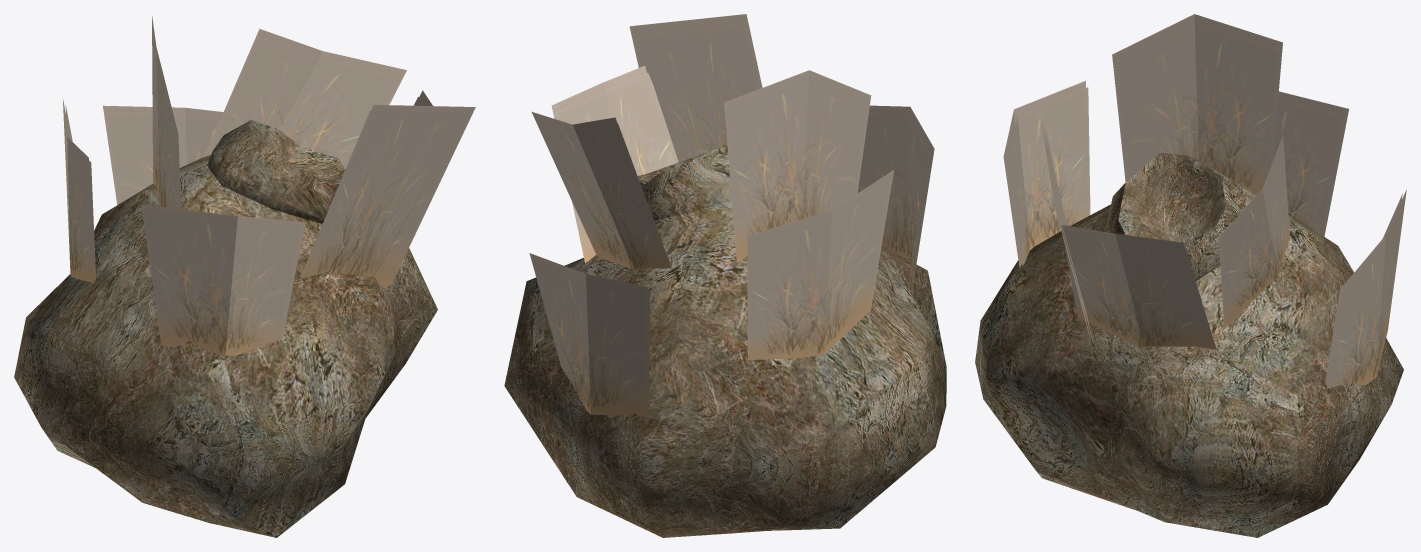
The model's file is poi_all_lair_mound_small_l1.fbx.
3 renders of one model, left to right at view 1: azimuth 30°, elevation 25°; view 2: azimuth 150°, elevation 25°; view 3: azimuth 270°, elevation 25°, orthographic.
Visible parts, largest first — view 1: mesh_node; view 2: mesh_node; view 3: mesh_node.
Boxes of the visible parts, left/top/right/bottom form: mesh_node: left=14, top=16, right=475, bottom=537; mesh_node: left=504, top=14, right=946, bottom=537; mesh_node: left=975, top=14, right=1406, bottom=537.
Bounding box in the file's own units: 2.47 × 2.78 × 2.38.
